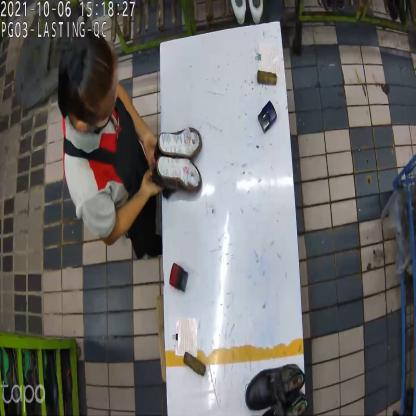shoes: (240, 356, 307, 416), (153, 123, 206, 195)
stamp: (170, 262, 191, 294), (258, 100, 276, 135)
